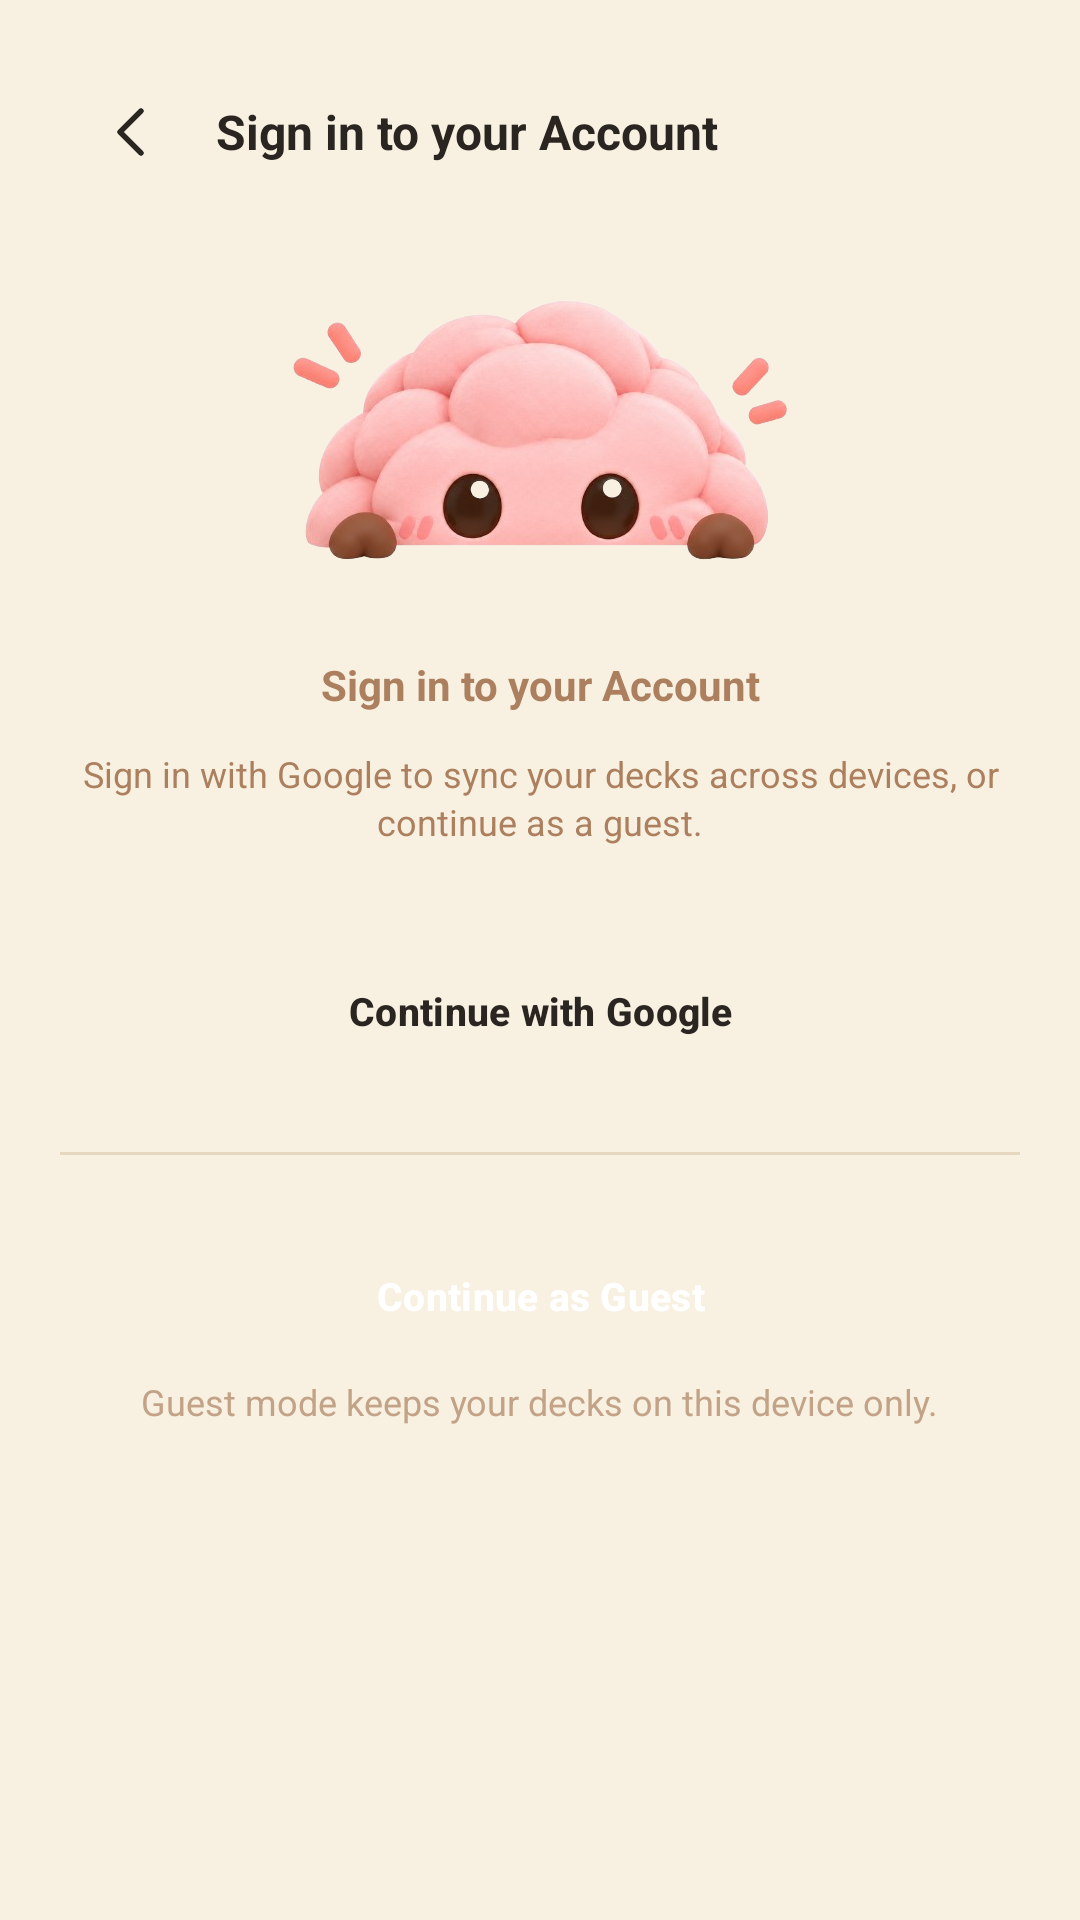

Named icons in this screenshot (1080px x 1920px) and their bounding boxes, detection(x1, y1, x2, y2):
Back: detection(117, 108, 144, 156)
